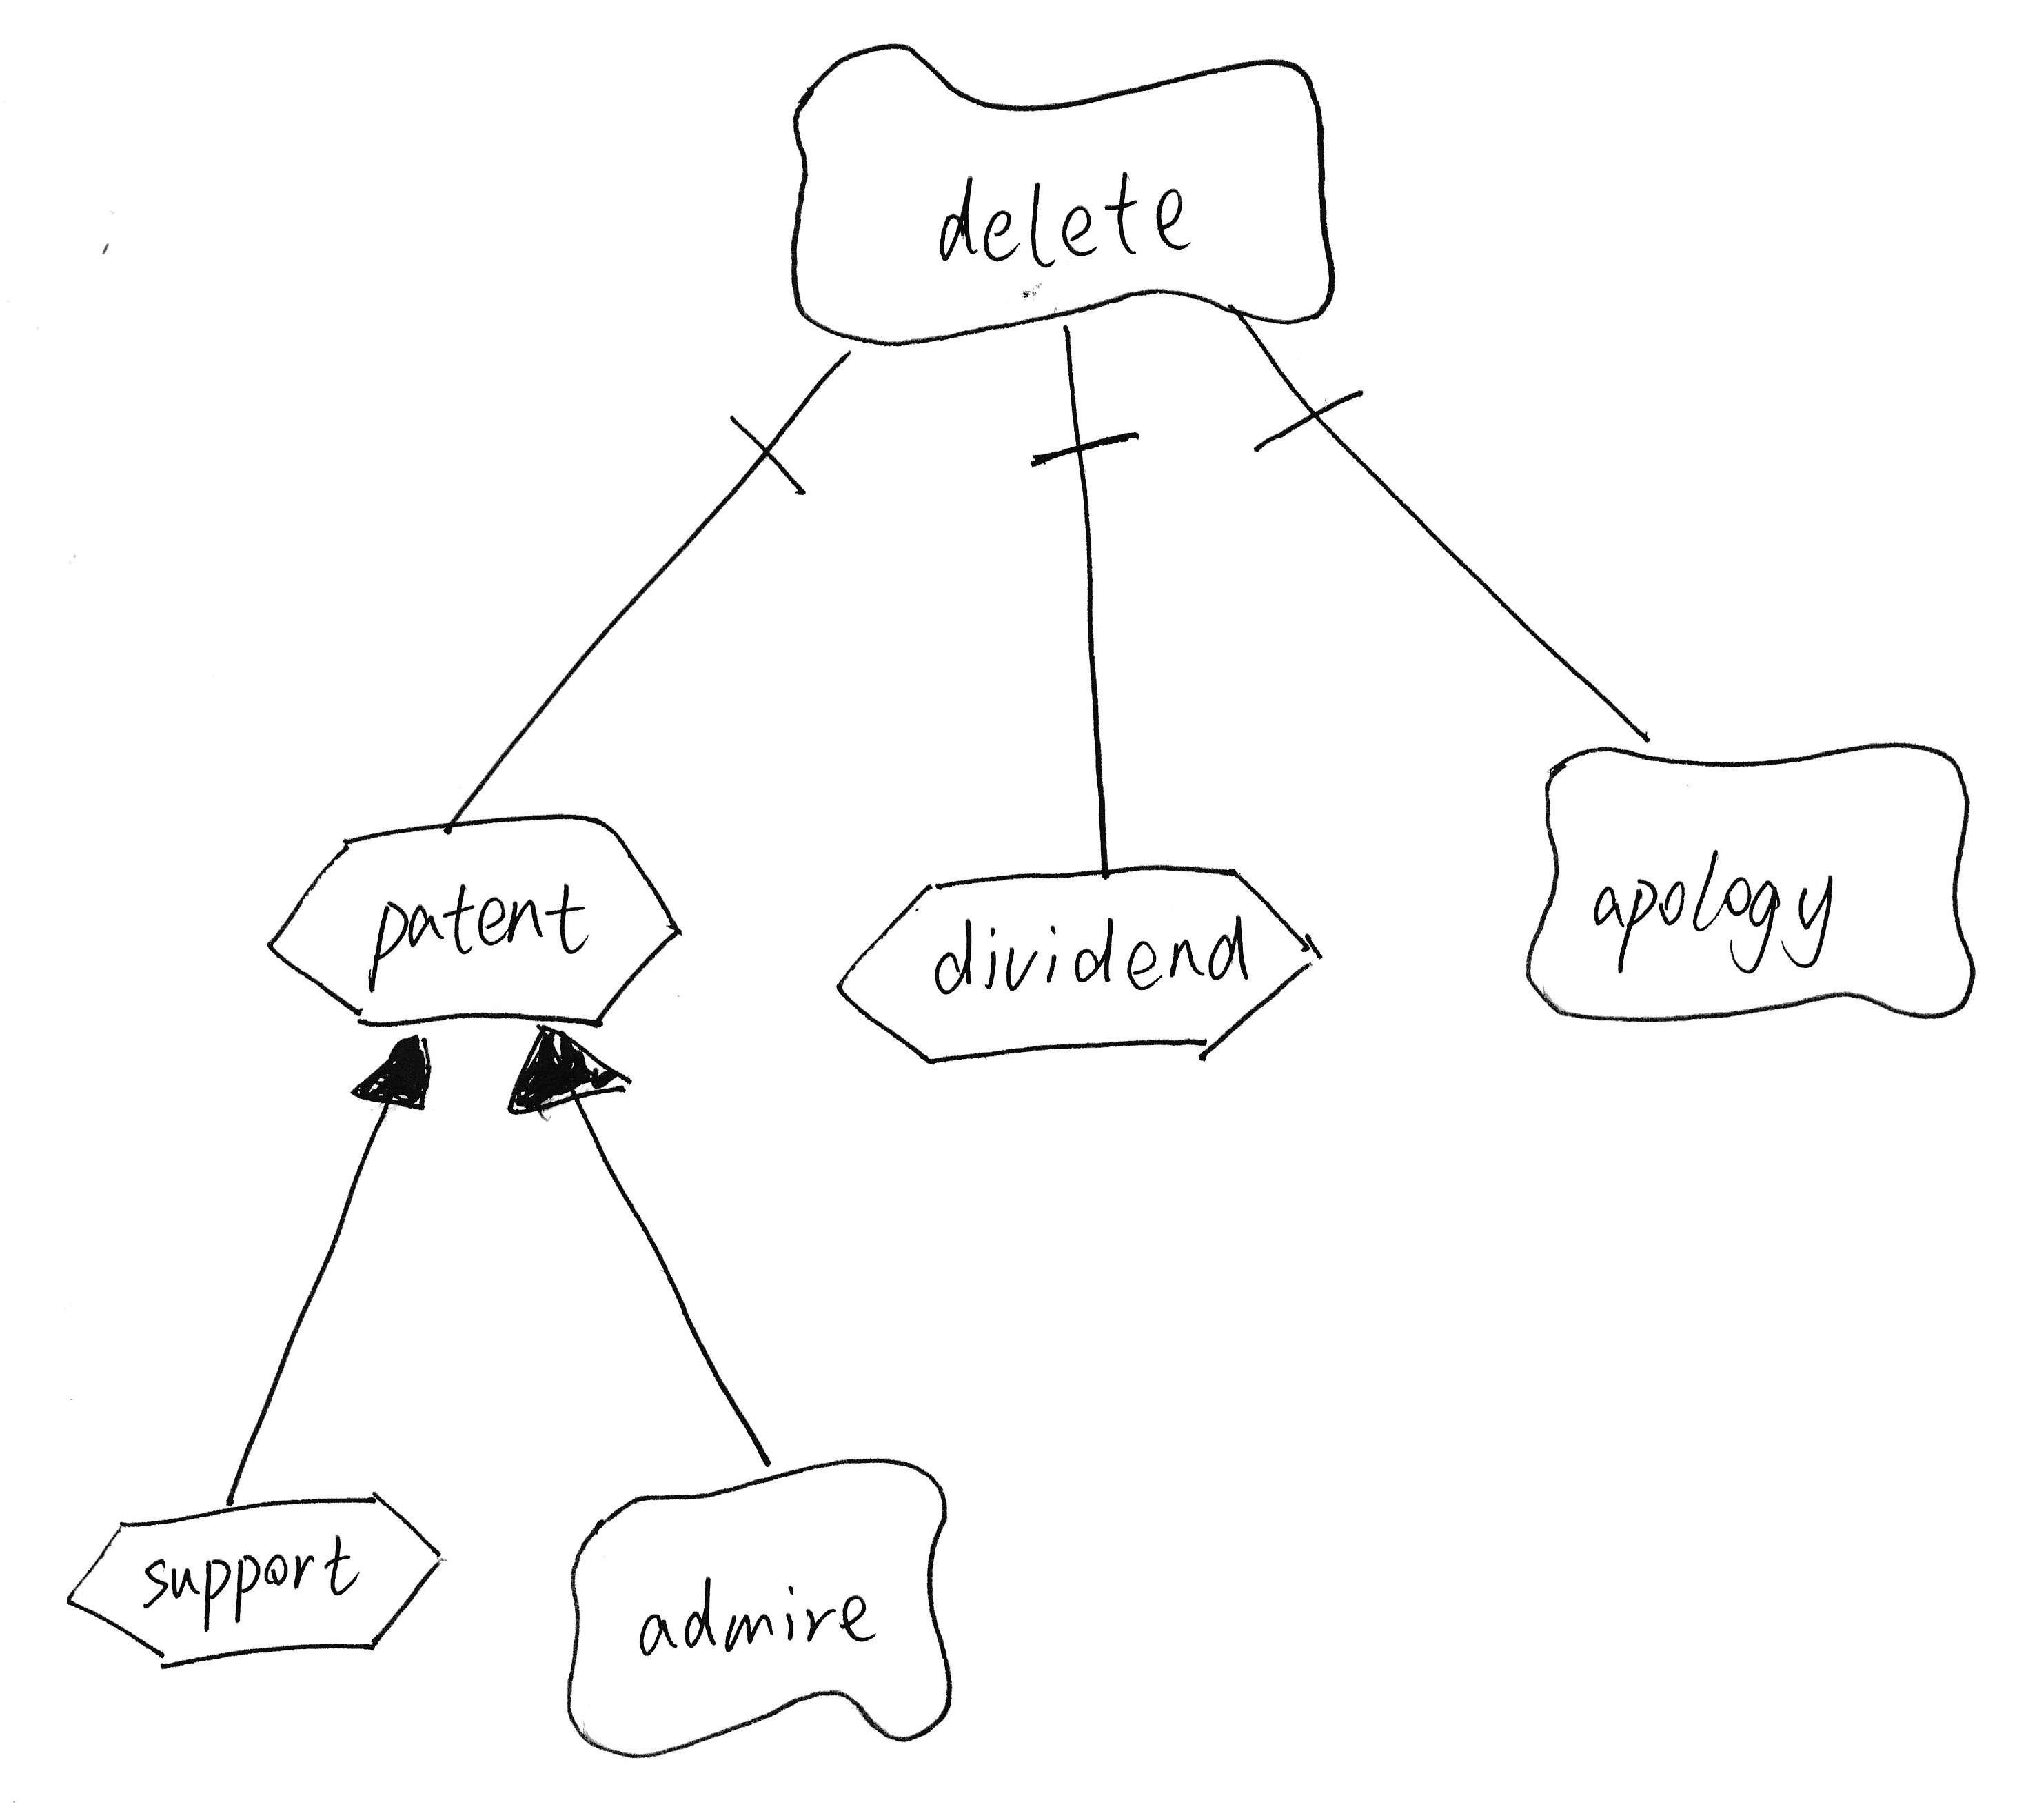and: (1213, 297, 1378, 459), (718, 344, 864, 506), (1024, 309, 1148, 490)
or: (500, 1012, 644, 1131), (344, 1026, 446, 1119)
quality: (764, 21, 1359, 365), (1505, 719, 1997, 1042), (539, 1432, 973, 1766)
task: (815, 845, 1342, 1082), (248, 792, 701, 1052), (53, 1474, 460, 1683)
